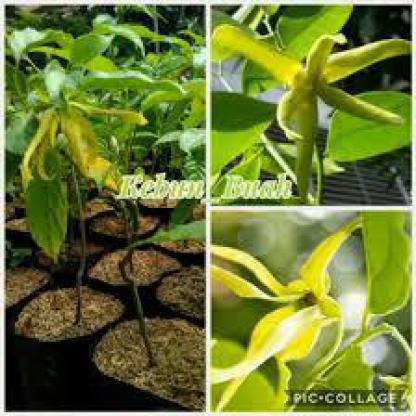Kenanga: (222, 246, 365, 380), (244, 46, 376, 168), (38, 92, 126, 185)
